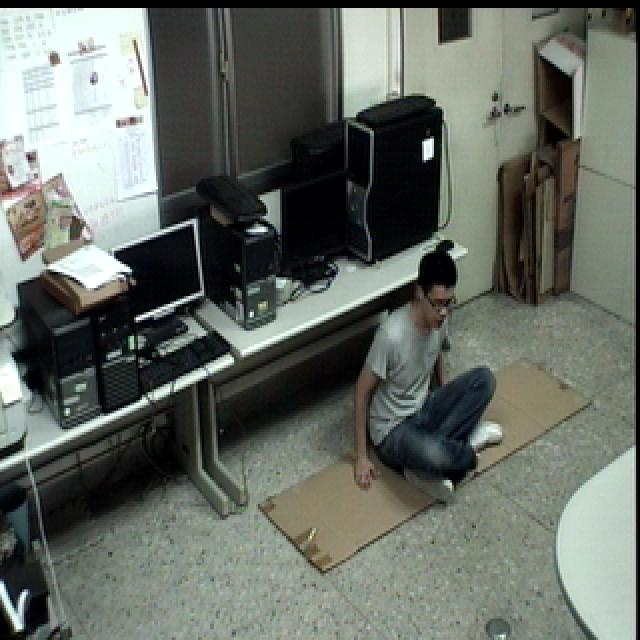sit: (349, 248, 509, 507)
